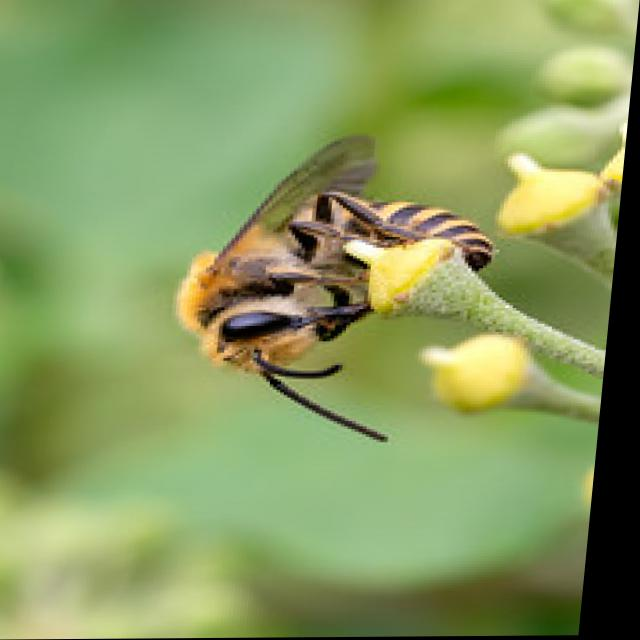Abeille: (124, 122, 554, 454)
